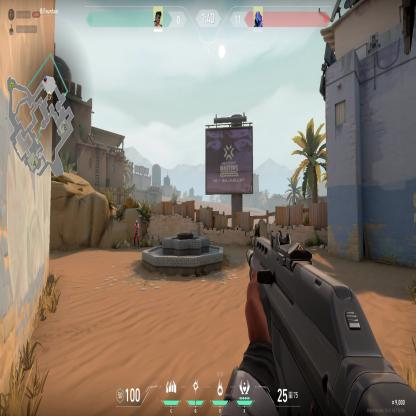enemy: (132, 218, 140, 250)
